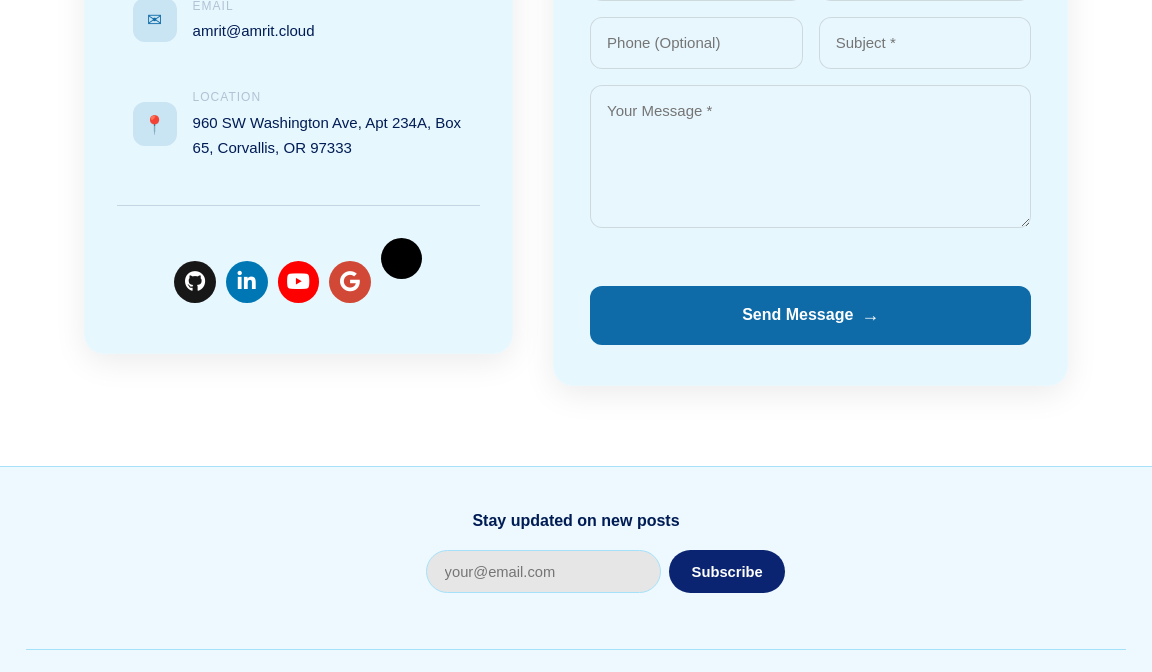
Test: ContactComponent › shows validation errors when submitting empty form
(page scrolled)
Click the button "Send Message →": (811, 315) [590,286,1031,345]
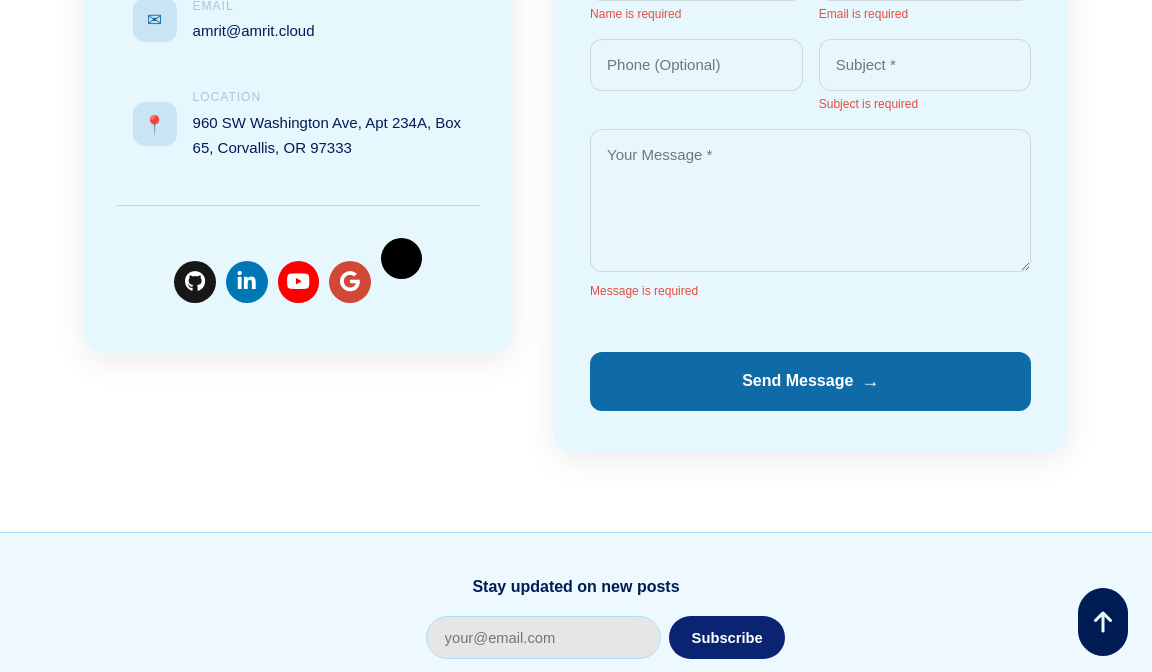
Result: the text "Name is required" is shown at [590,7,681,21]
Result: the text "Email is required" is shown at [819,7,908,21]
Result: the text "Subject is required" is shown at [819,97,918,111]
